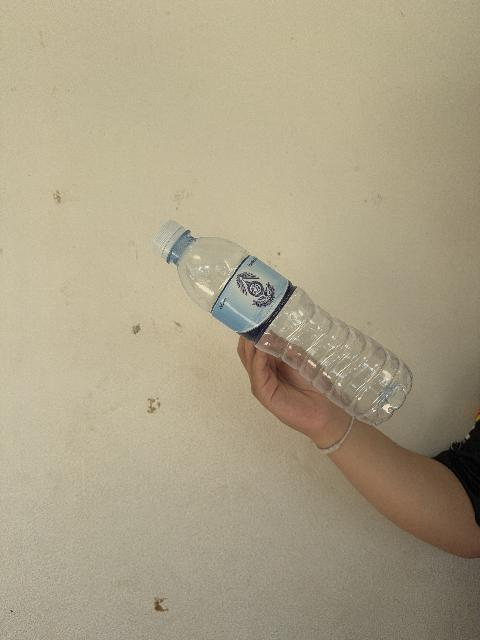bottle: (152, 220, 412, 425)
